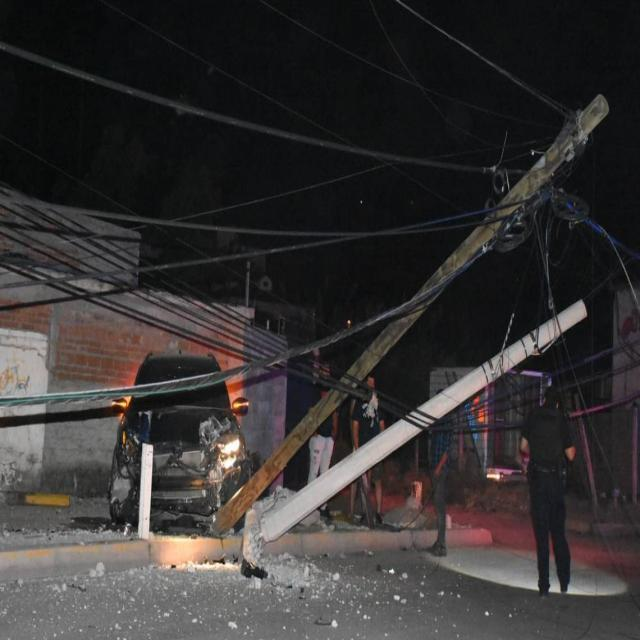light_pole: (210, 94, 610, 536), (257, 299, 588, 542)
